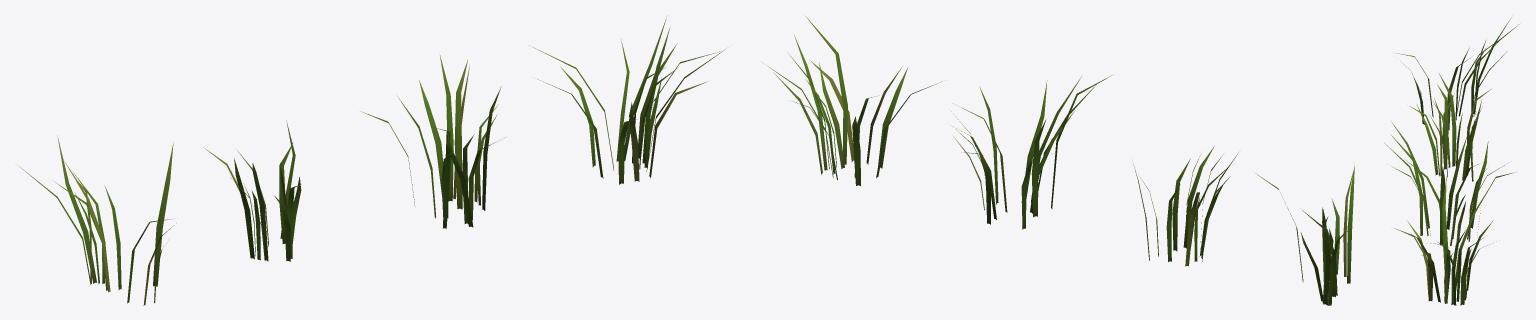
File: grass_medium_lod1.glb
3 renders of one model, left to right at view 1: azimuth 30°, elevation 25°; view 2: azimuth 150°, elevation 25°; view 3: azimuth 270°, elevation 25°, orthographic. The views are drawn at different scales.
Visible parts, largest first — view 1: Grass_medium_03_LOD1, Grass_medium_04_LOD1, Grass_medium_01_LOD1, Grass_medium_02_LOD1; view 2: Grass_medium_04_LOD1, Grass_medium_03_LOD1, Grass_medium_02_LOD1, Grass_medium_01_LOD1; view 3: Grass_medium_04_LOD1, Grass_medium_03_LOD1, Grass_medium_02_LOD1, Grass_medium_01_LOD1.
Boxes of the visible parts, x1,y1,x2,y2 form: Grass_medium_03_LOD1: (360,54,501,228); Grass_medium_04_LOD1: (529,15,726,184); Grass_medium_01_LOD1: (20,135,173,305); Grass_medium_02_LOD1: (203,120,301,261); Grass_medium_04_LOD1: (762,16,942,185); Grass_medium_03_LOD1: (951,74,1113,229); Grass_medium_02_LOD1: (1133,146,1238,266); Grass_medium_01_LOD1: (1255,163,1354,305); Grass_medium_04_LOD1: (1394,176,1496,305); Grass_medium_03_LOD1: (1384,121,1516,245); Grass_medium_02_LOD1: (1410,73,1491,181); Grass_medium_01_LOD1: (1395,17,1519,129).
Bounding box in the file's own units: 3.32 × 0.6476 × 0.8514.
1 material, 1 textured.
